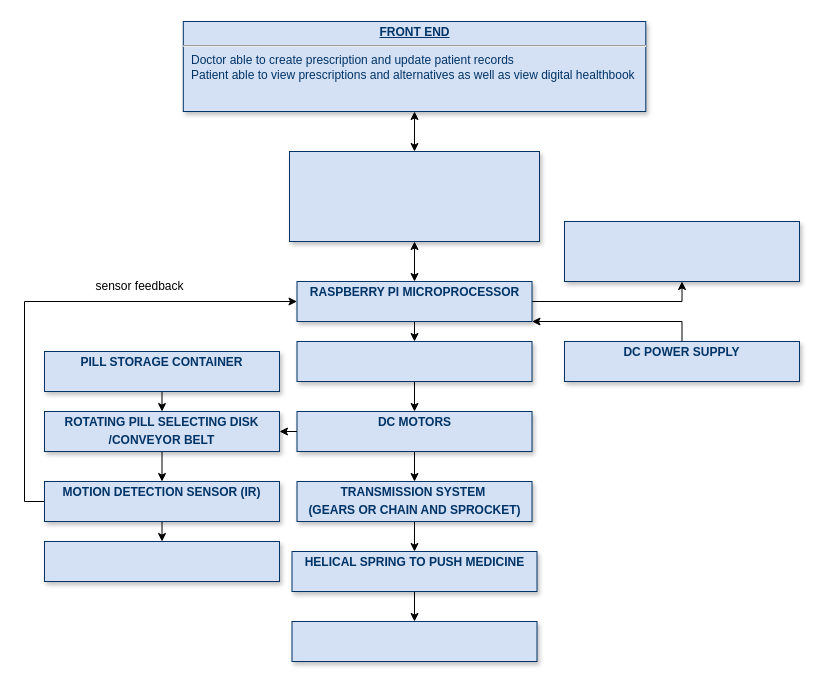
Some shapes in this 823 by 686 pixel diagram are drawn without their labels. The shapes that lost their labels are listed below. From the top down, each one's centre as x and y in pixels, then its label:
(415,197): BACKEND APIs Database Medication Alternative Suggestion AI model SMS sending
(683,252): VENDING MACHINE USER INTERFACE (LCD OR BUTTONS)
(415,362): MOTOR DRIVER
(163,562): DISPENSING FUNNEL
(415,642): COLLECTION POINT
